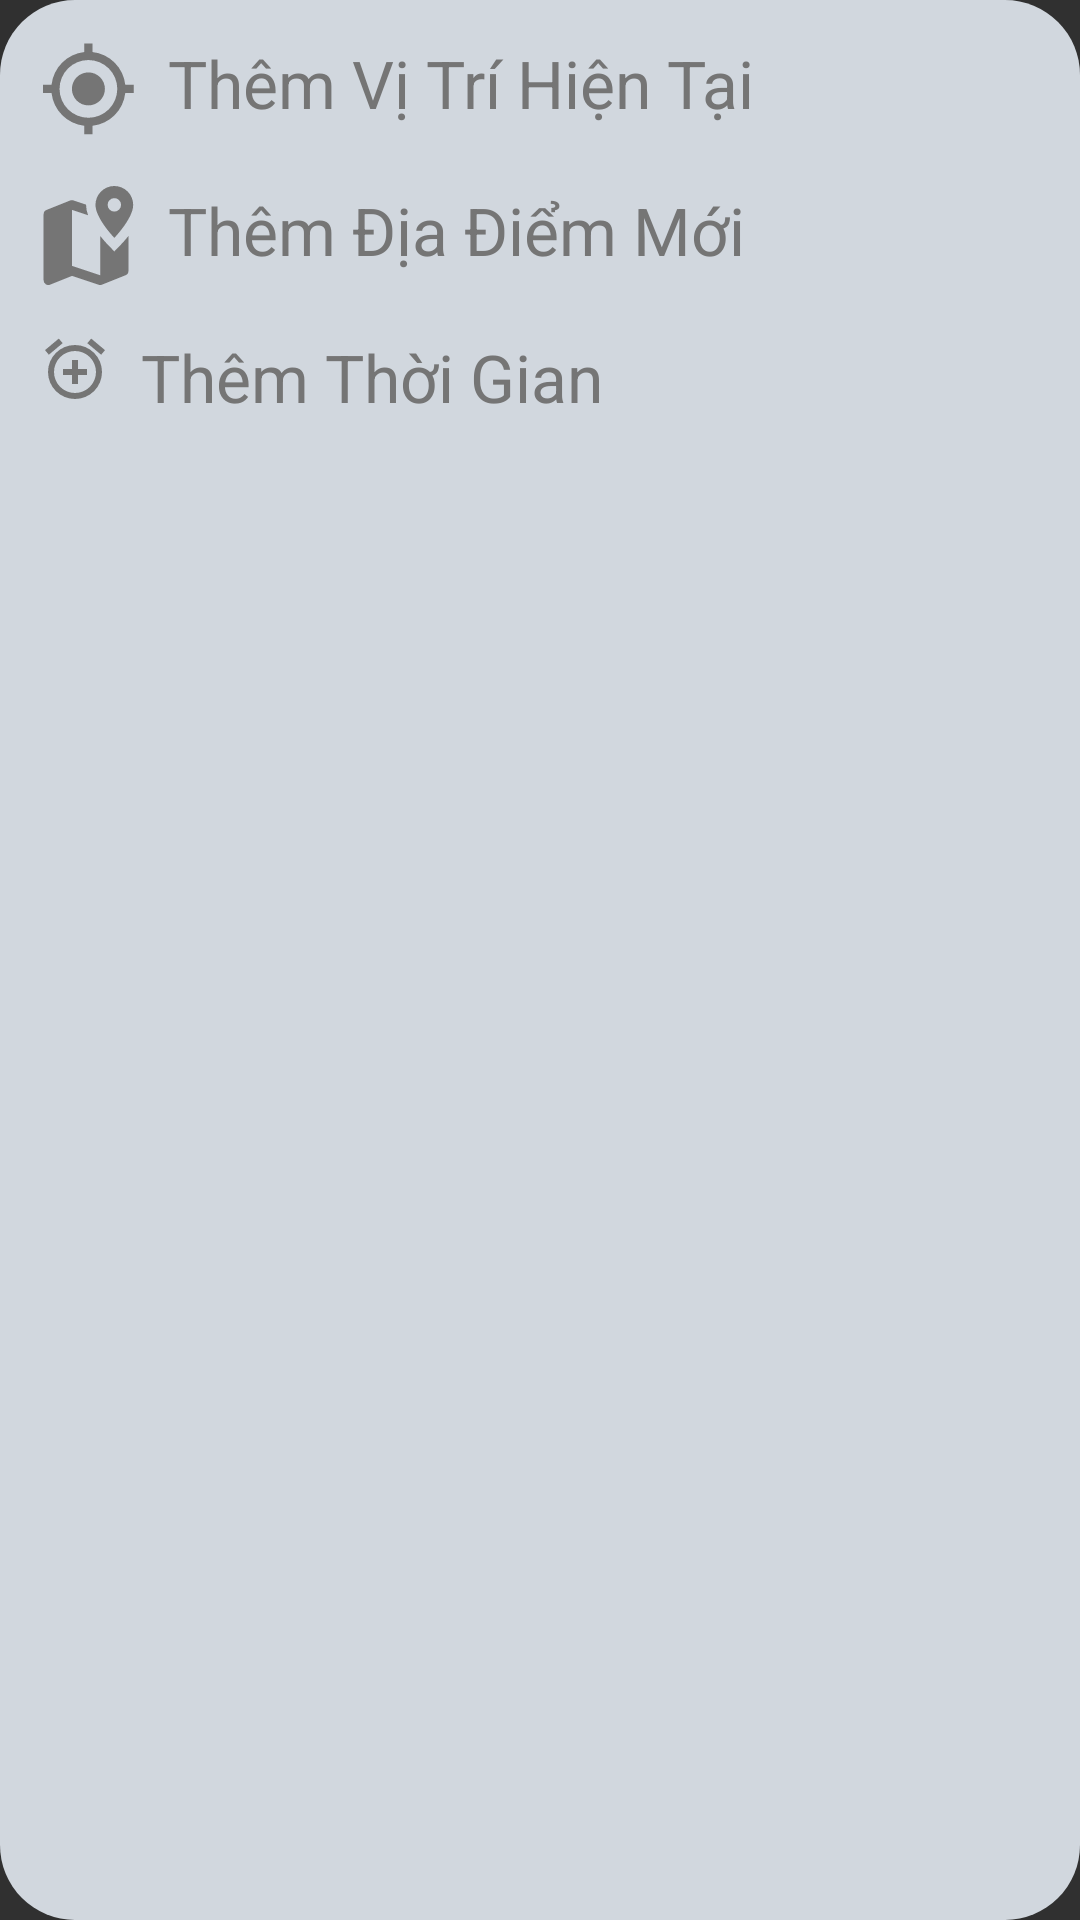

Icons on this 1080×1920 Android screen, each with the point to tap as (x=x, y=y):
alarm add: (x=75, y=369)
vitrihientai: (x=88, y=89)
vitrimoi: (x=88, y=235)
